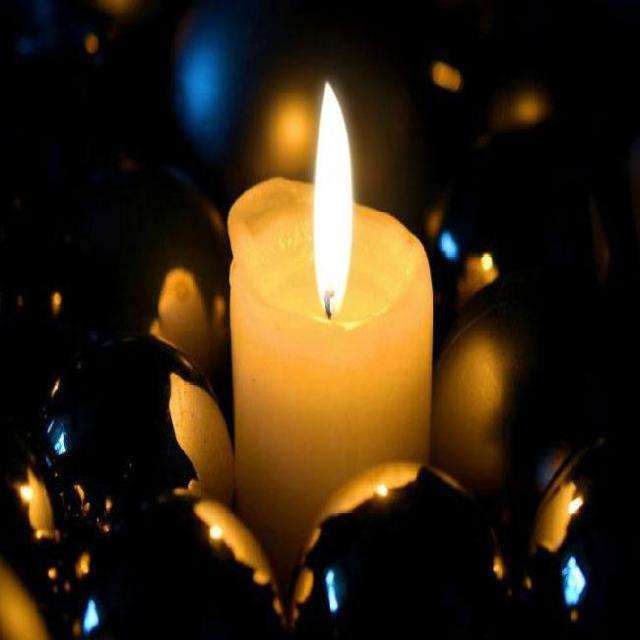fire: (290, 60, 374, 323)
